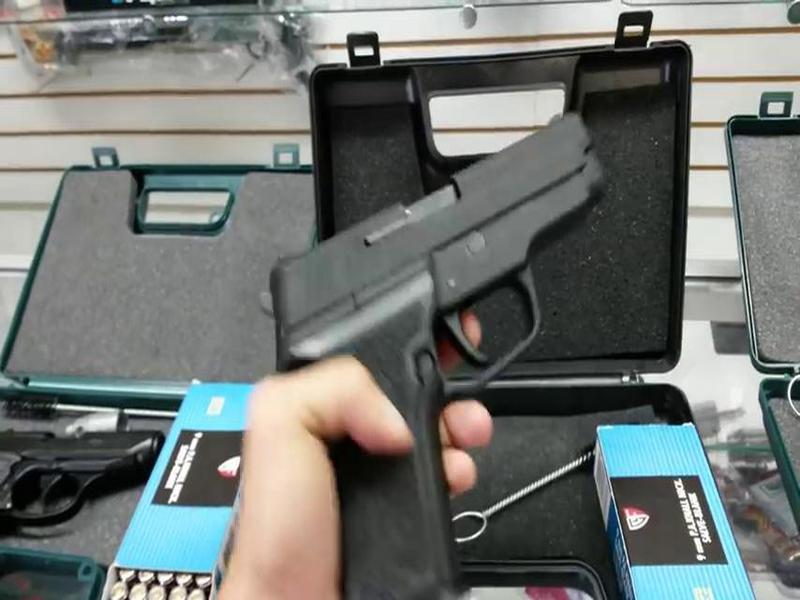Pistola: (211, 104, 622, 571)
